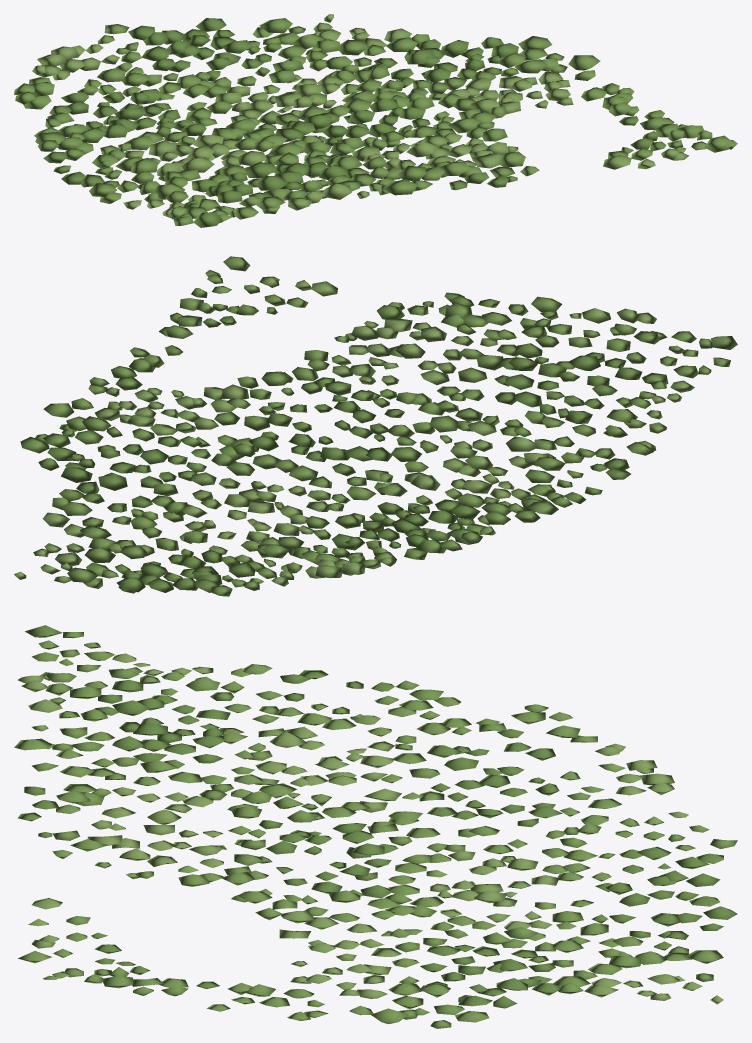
The model's file is canopy-1--6--2.glb.
3 views of the same model, one above another, from view 1: azimuth 30°, elevation 25°; view 2: azimuth 150°, elevation 25°; view 3: azimuth 270°, elevation 25° (orthographic). The views are drawn at different scales.
Size of the model in its own units: 520 by 118 by 518.
1 material, 1 textured.
